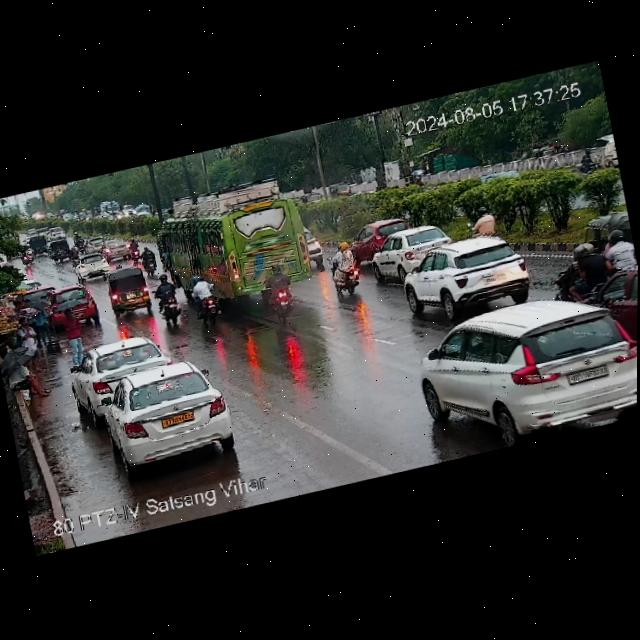bus: (147, 168, 324, 317)
car: (420, 274, 638, 450), (89, 356, 239, 478), (399, 226, 543, 319), (71, 331, 174, 406), (588, 251, 638, 376), (368, 220, 462, 278), (351, 214, 413, 260), (105, 264, 156, 316), (72, 252, 115, 285), (73, 279, 102, 326), (104, 237, 137, 263), (17, 280, 52, 304), (50, 239, 70, 265), (29, 234, 48, 257), (85, 236, 104, 254), (47, 224, 66, 242)
motorcycle: (563, 238, 606, 290), (327, 241, 364, 297), (187, 272, 225, 322), (155, 271, 191, 323), (599, 224, 638, 270), (262, 265, 298, 312), (468, 205, 498, 237), (576, 146, 601, 178), (139, 246, 158, 276), (19, 245, 34, 268), (73, 230, 86, 254), (68, 245, 81, 264)
person: (3, 350, 52, 404), (57, 305, 88, 357), (26, 299, 55, 352)
